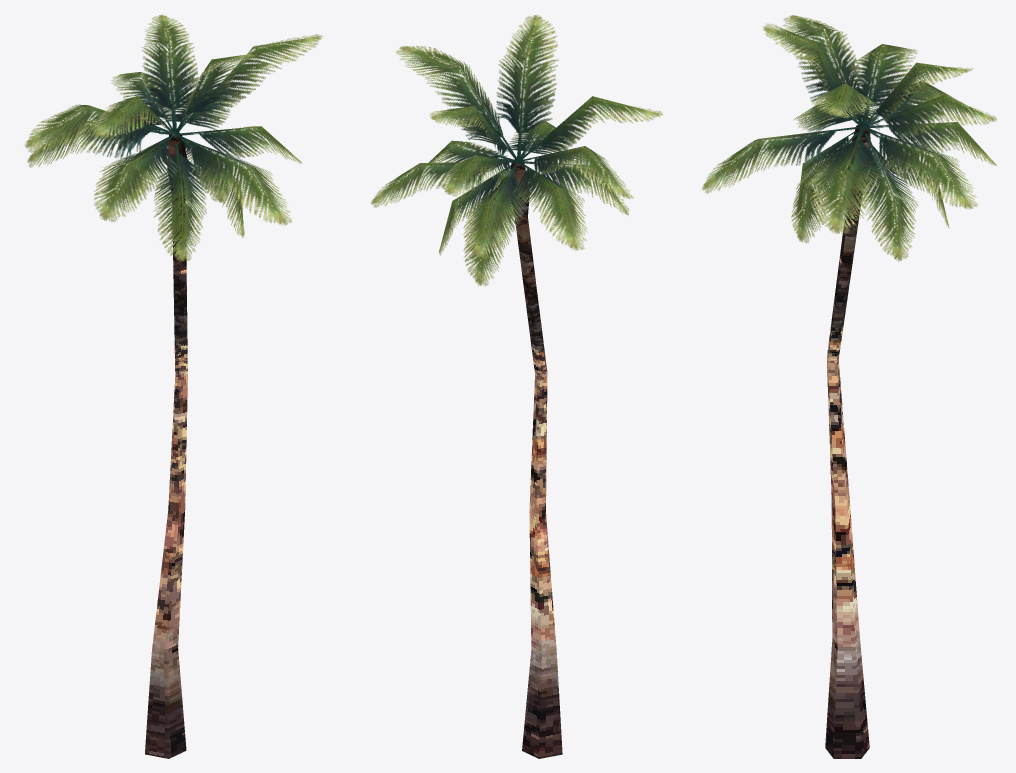
File: stage-east-p2-80.glb
3 views of the same model, side by side, from view 1: azimuth 30°, elevation 25°; view 2: azimuth 150°, elevation 25°; view 3: azimuth 270°, elevation 25° (orthographic). The views are drawn at different scales.
Size of the model in its own units: 9.76 by 23.98 by 8.95.
Materials: 2 (2 with a texture image).
